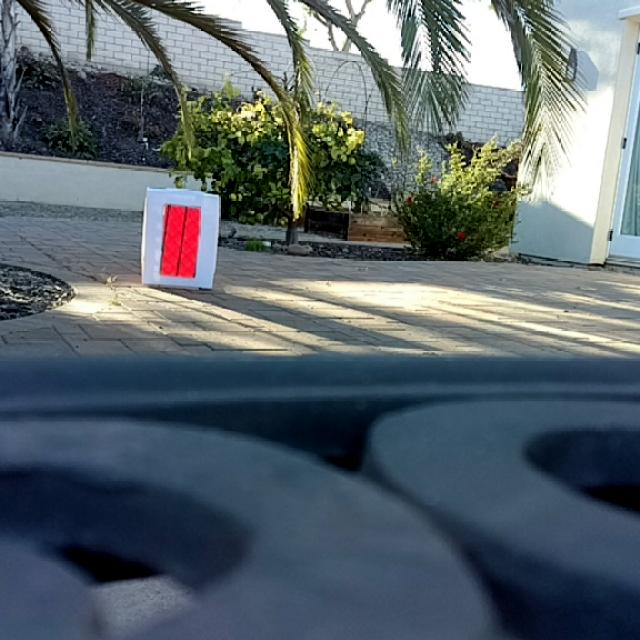led: (160, 206, 198, 277)
